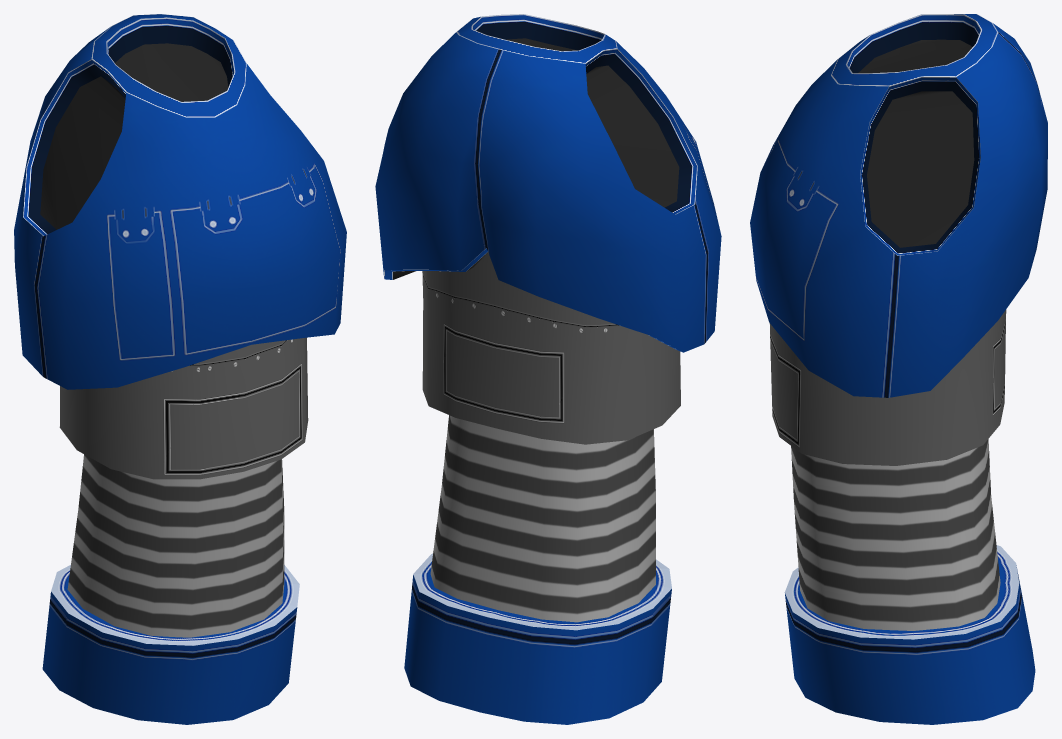
The model's file is body_b.fbx.
3 renders of one model, left to right at view 1: azimuth 30°, elevation 25°; view 2: azimuth 150°, elevation 25°; view 3: azimuth 270°, elevation 25°, orthographic. The views are drawn at different scales.
Parts seen in each view (by area): view 1: BODY_B; view 2: BODY_B; view 3: BODY_B.
Boxes of the visible parts, bbox=[...] form: BODY_B: bbox=[14, 14, 346, 724]; BODY_B: bbox=[375, 14, 721, 724]; BODY_B: bbox=[750, 14, 1047, 724].
Bounding box in the file's own units: 21.94 × 44.56 × 18.55.
